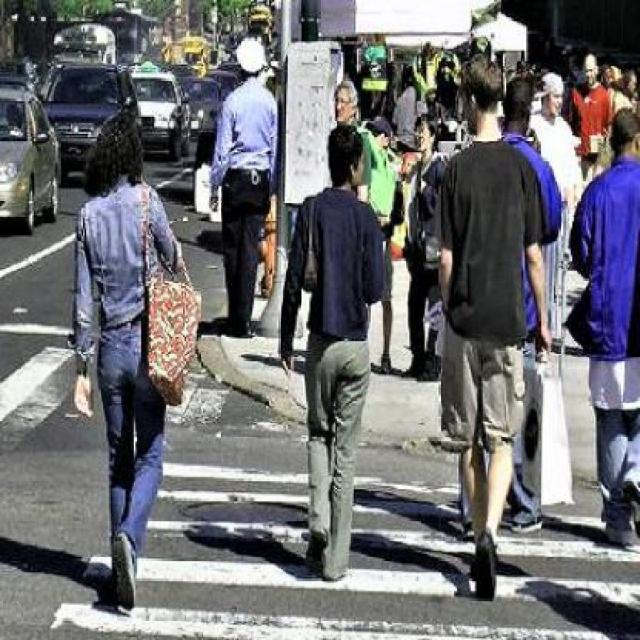Person: (70, 114, 199, 612), (434, 57, 554, 580), (281, 129, 393, 588), (576, 112, 638, 542), (218, 31, 280, 344)
